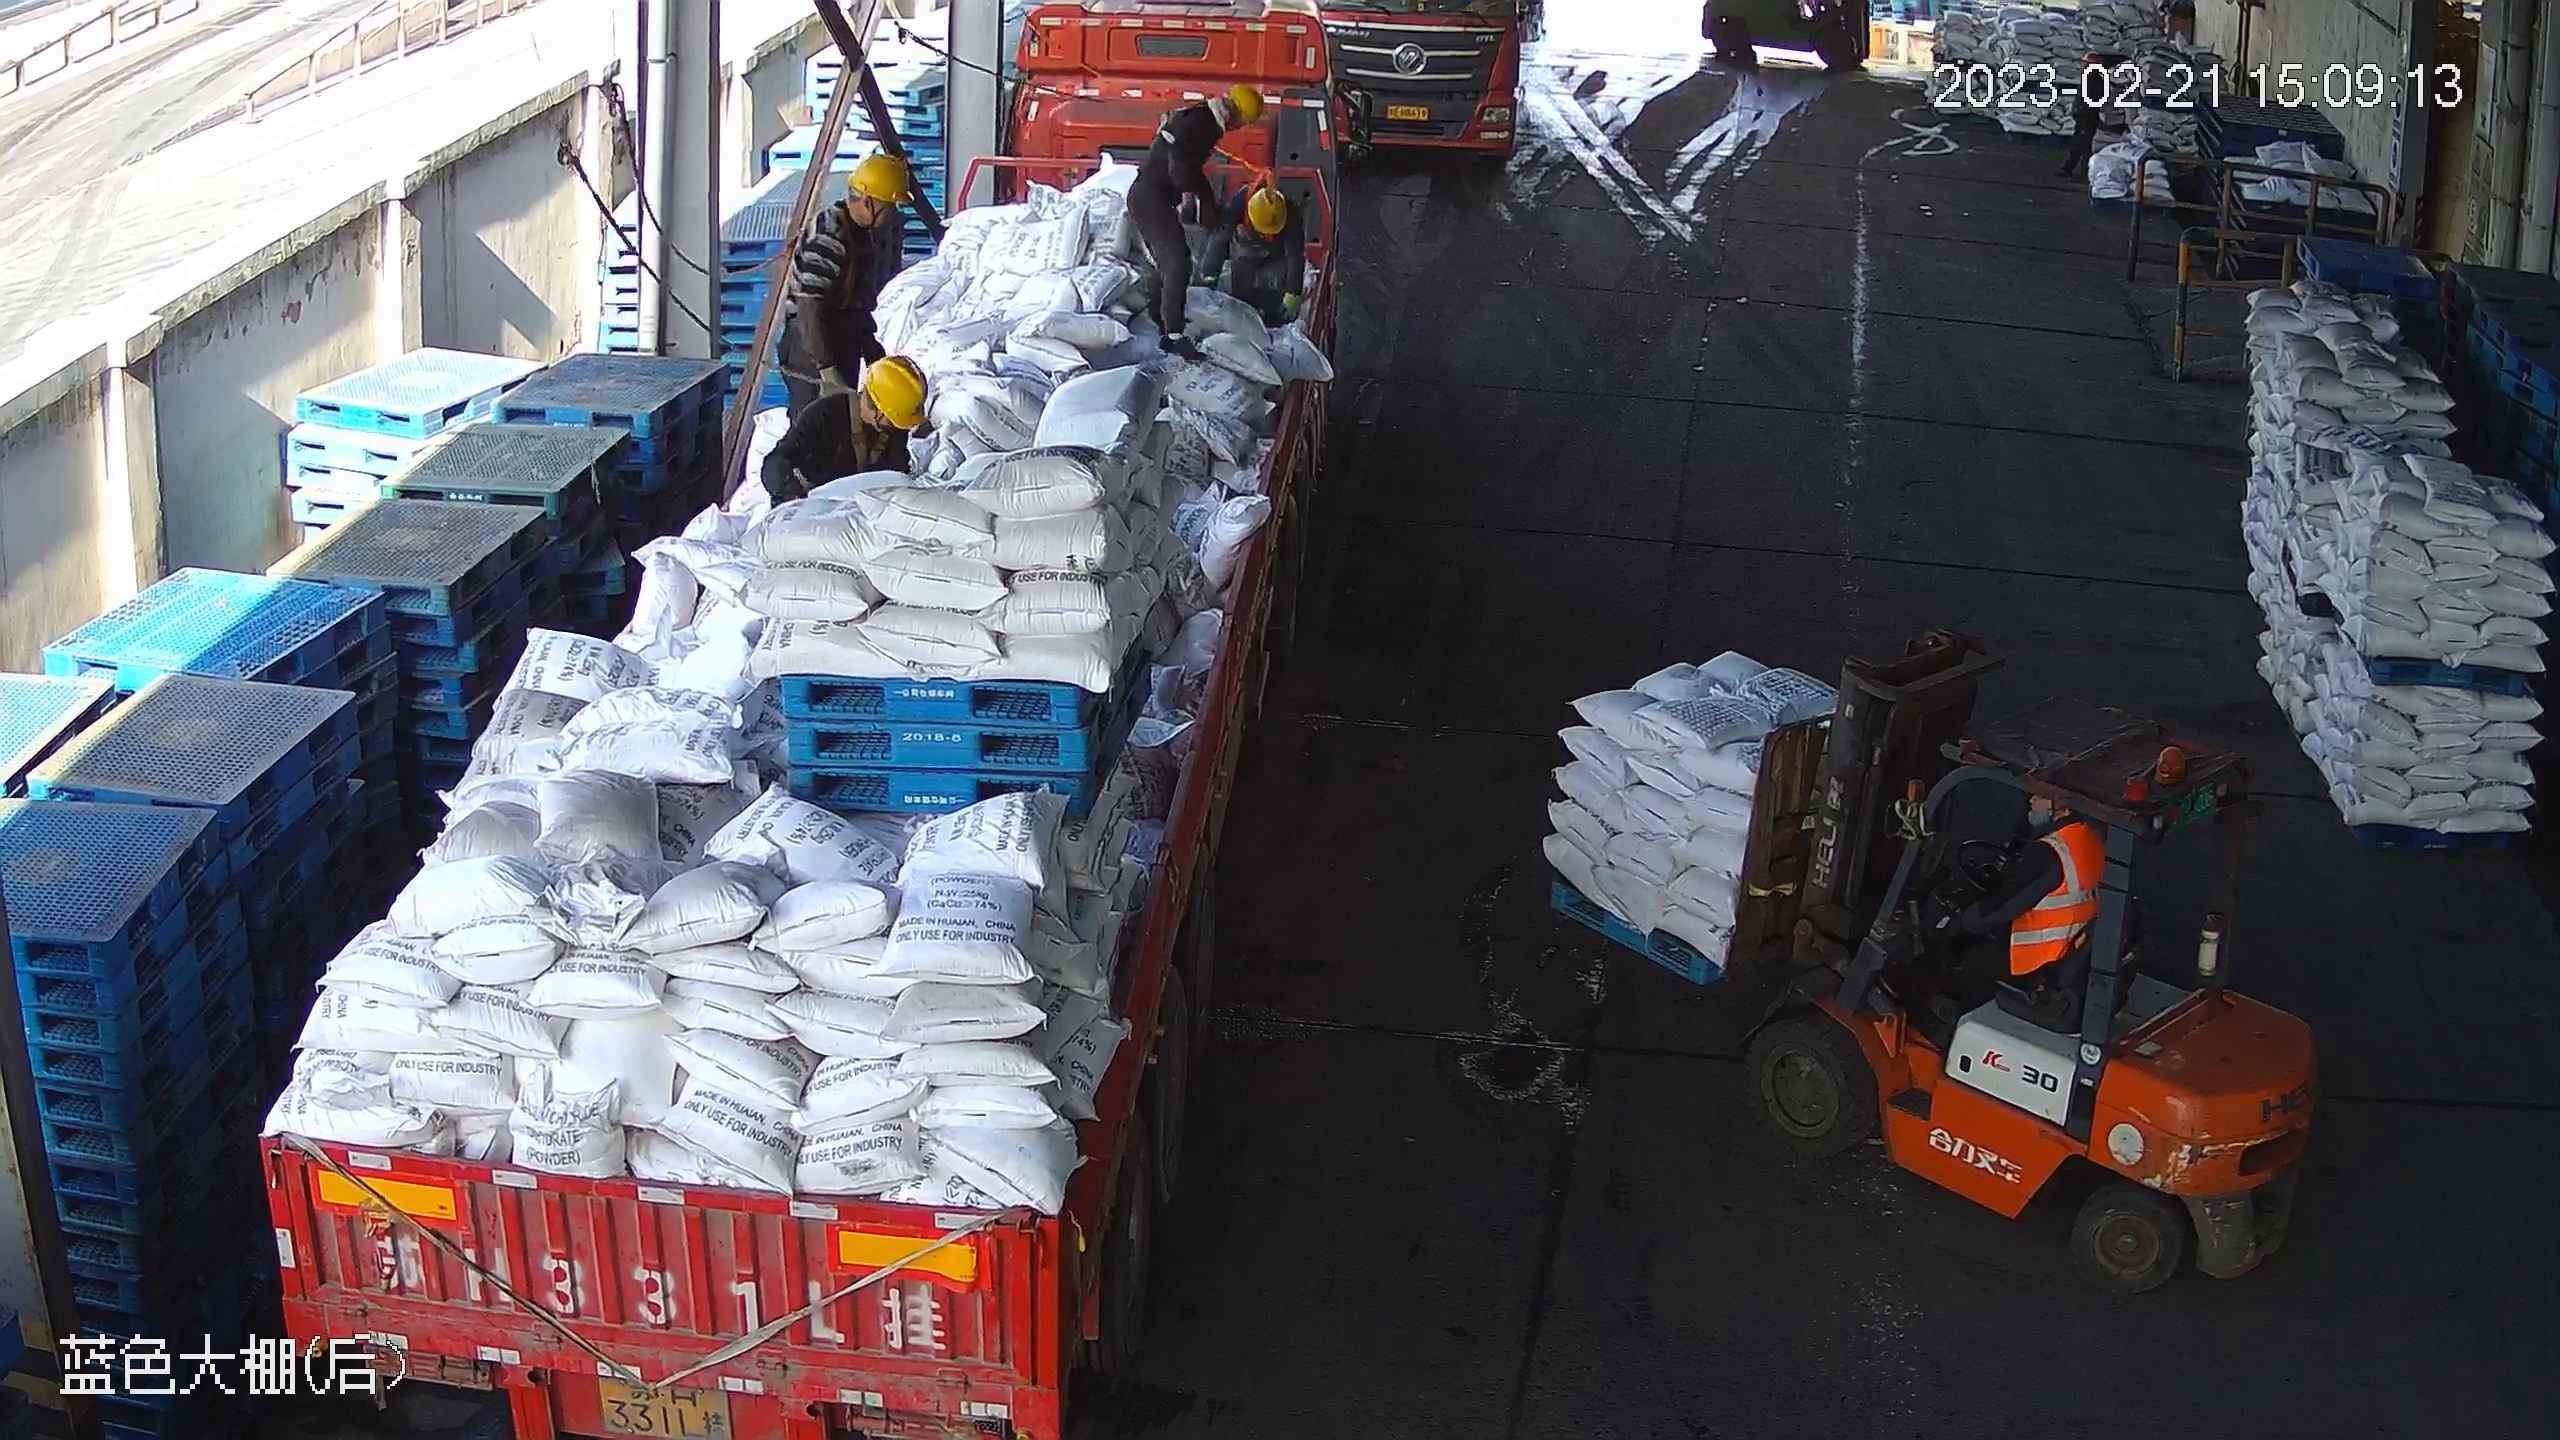belt: (779, 208, 889, 302), (822, 383, 891, 469), (1135, 101, 1199, 165), (1240, 164, 1278, 224)
head: (794, 352, 931, 454), (803, 153, 914, 249), (2003, 793, 2101, 872), (1178, 83, 1267, 148), (1226, 184, 1298, 254)
helmet: (867, 354, 926, 431), (848, 155, 913, 207), (1245, 188, 1287, 232), (1226, 85, 1263, 124)
people: (1881, 787, 2105, 1032), (744, 149, 916, 414), (1120, 83, 1267, 359), (1212, 177, 1303, 329)
truck: (246, 1, 1351, 1437)
